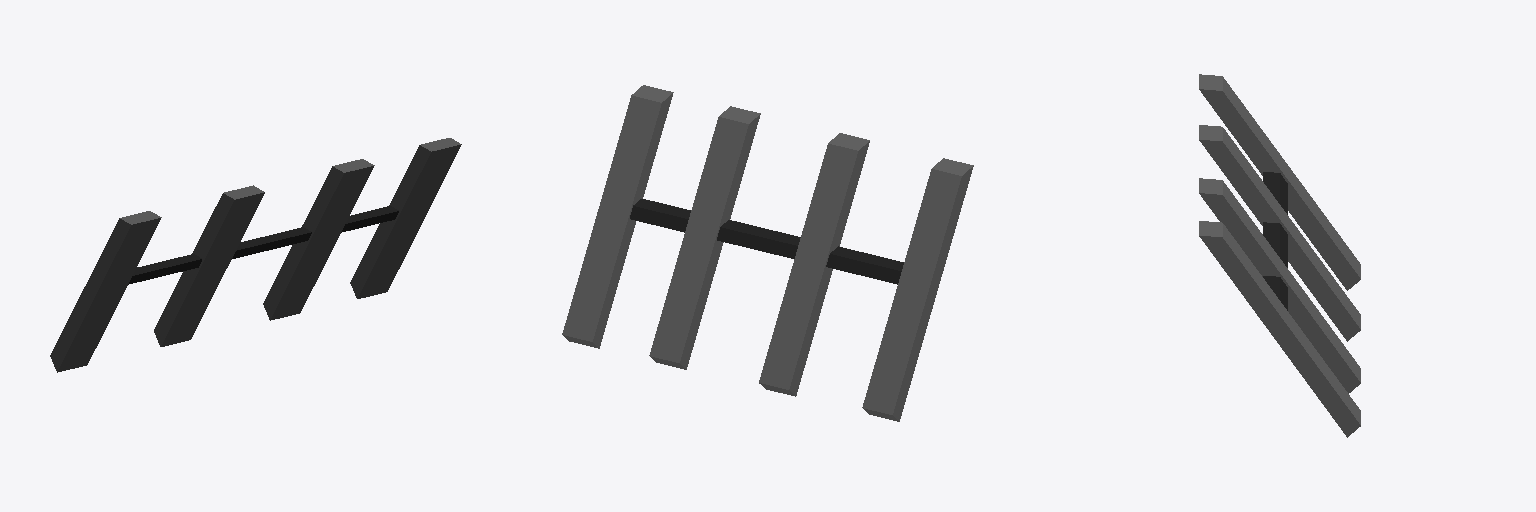
The model's file is Support.obj.
3 views of the same model, side by side, from view 1: azimuth 30°, elevation 25°; view 2: azimuth 150°, elevation 25°; view 3: azimuth 270°, elevation 25° (orthographic).
Parts seen in each view (by area): view 1: Support_Cube.030; view 2: Support_Cube.030; view 3: Support_Cube.030.
Boxes of the visible parts, x1=… form: Support_Cube.030: x1=50, y1=138, x2=461, y2=372; Support_Cube.030: x1=562, y1=85, x2=973, y2=421; Support_Cube.030: x1=1199, y1=74, x2=1360, y2=437.
Size of the model in its own units: 0.6865 by 0.4012 by 0.2922.